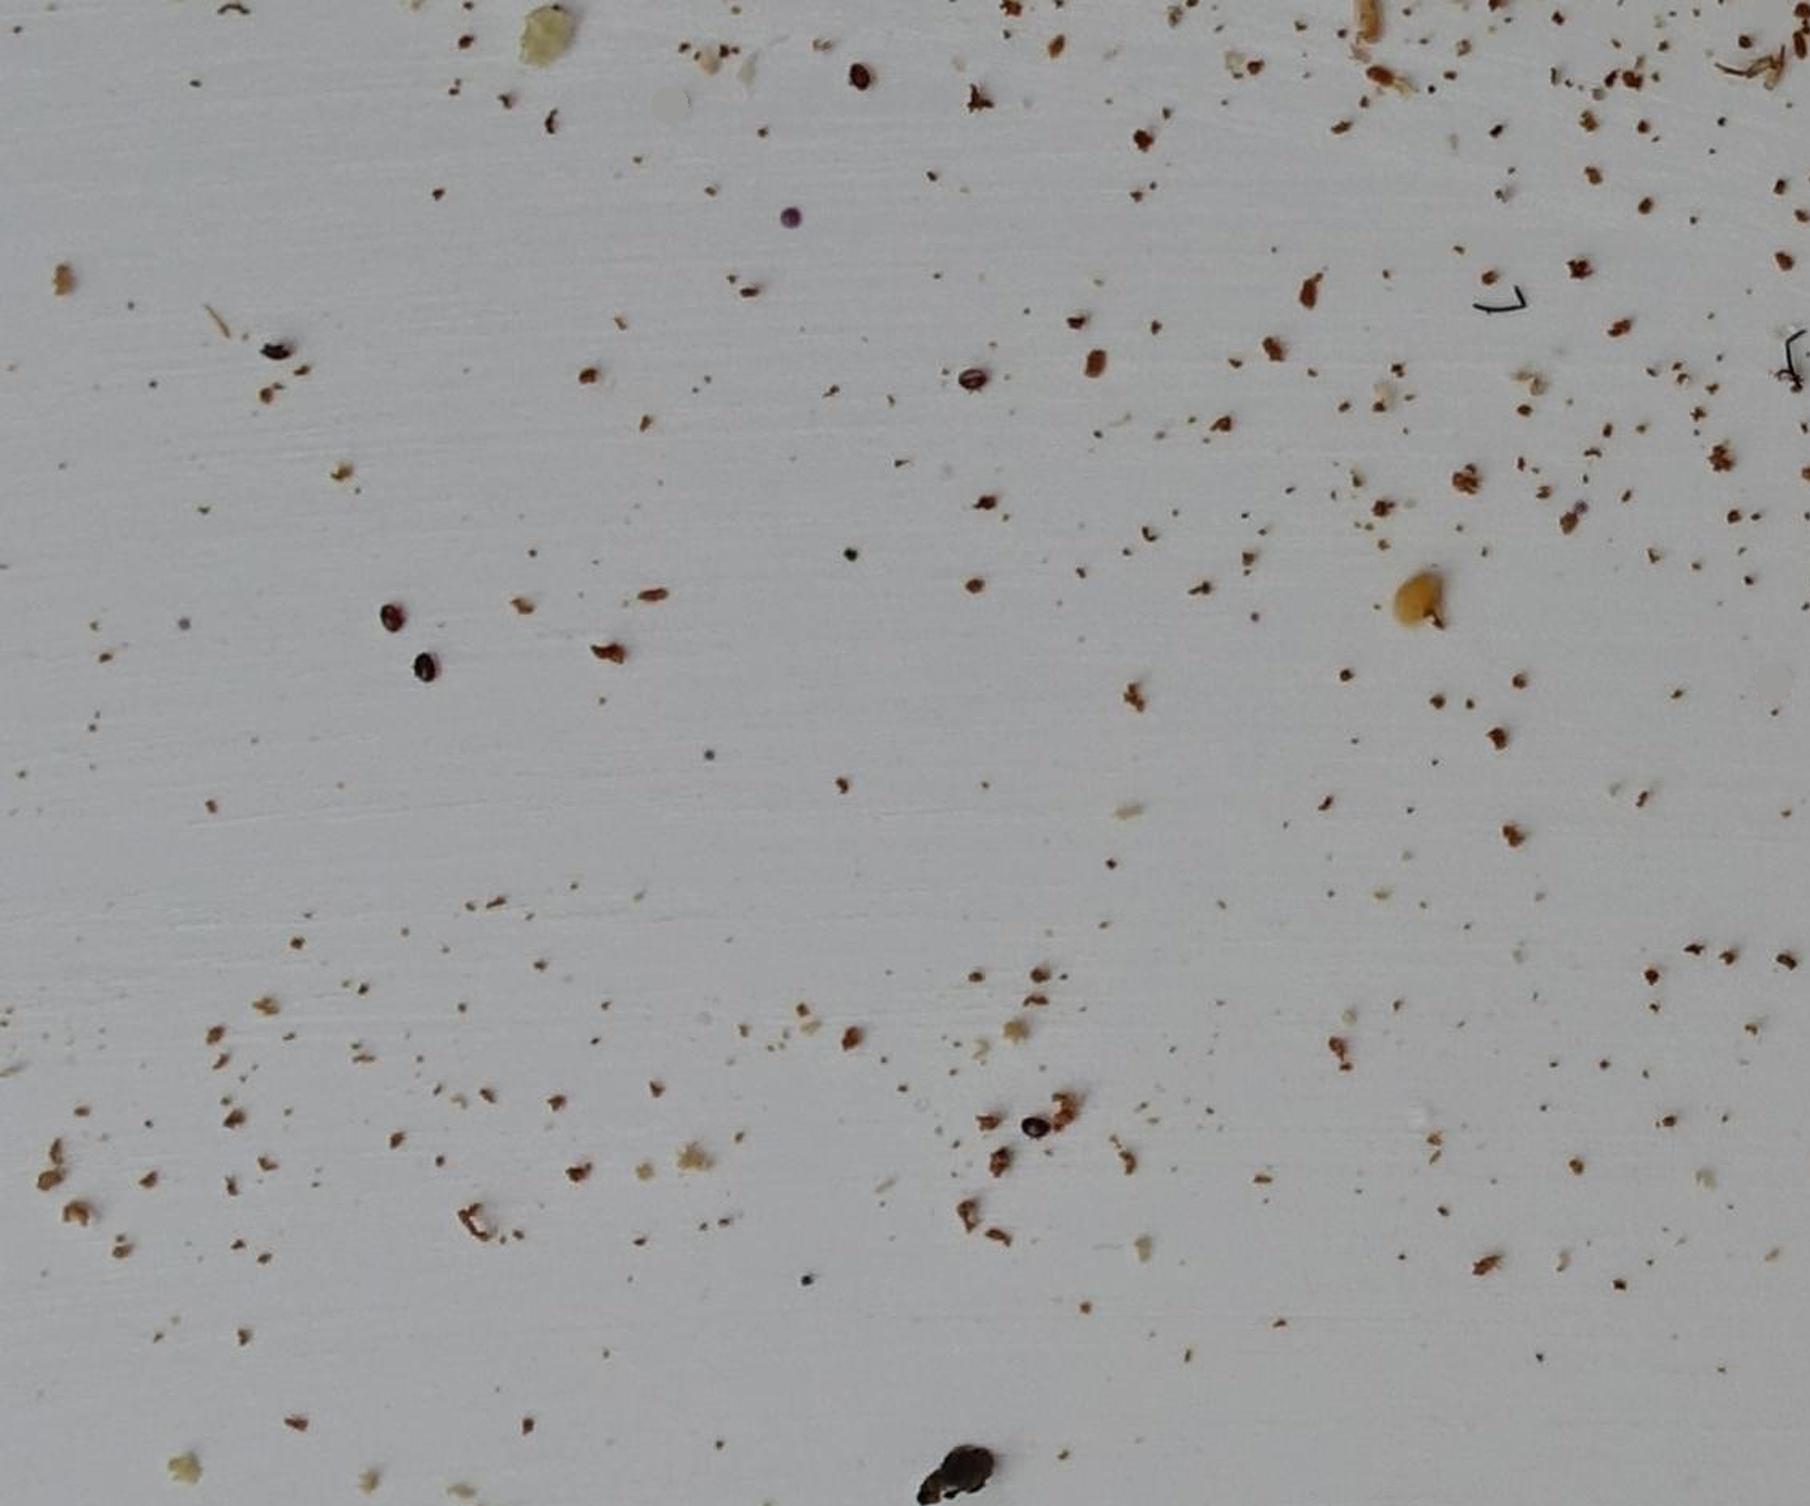Varroa: (257, 334, 292, 368), (1019, 1112, 1046, 1141), (958, 364, 983, 389), (410, 655, 434, 682), (380, 606, 404, 631), (852, 74, 872, 95)
